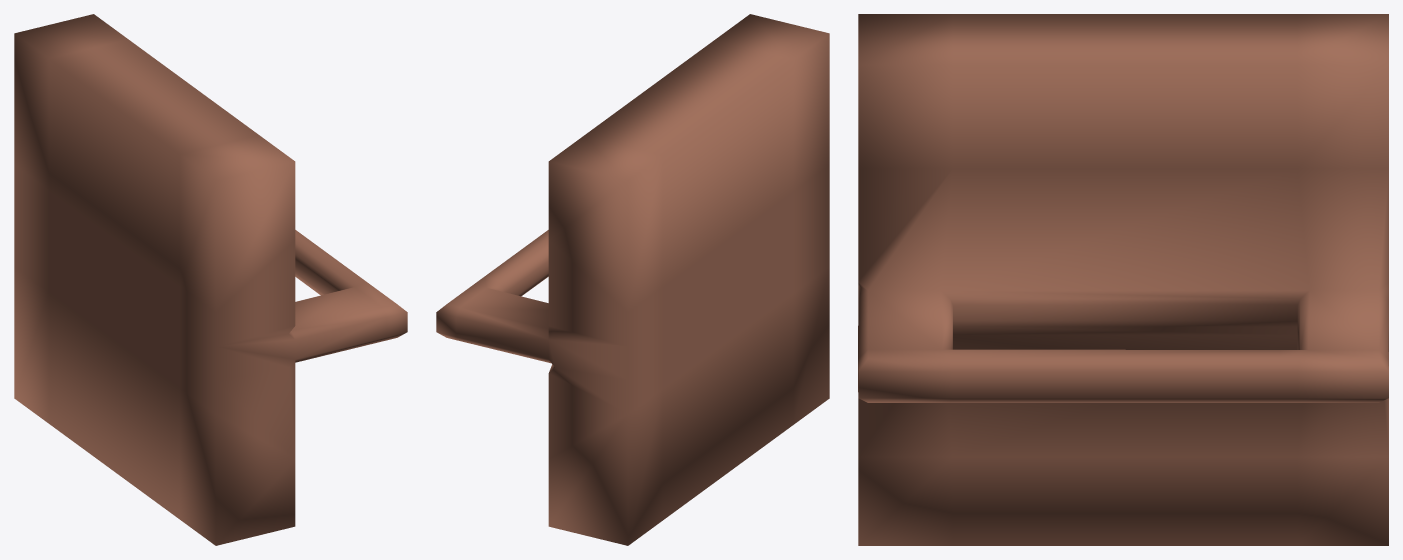
Rendered from Toilet_roll_holder.fbx.
The picture shows the model from 3 angles, left to right: view 1: azimuth 30°, elevation 25°; view 2: azimuth 150°, elevation 25°; view 3: azimuth 270°, elevation 25°; orthographic projection. The views are drawn at different scales.
Parts seen in each view (by area): view 1: Toilet_roll; view 2: Toilet_roll; view 3: Toilet_roll.
Part boxes in pixels (left/top/right/bottom): Toilet_roll: left=14, top=14, right=407, bottom=545; Toilet_roll: left=436, top=14, right=829, bottom=545; Toilet_roll: left=858, top=14, right=1388, bottom=545.
Size of the model in its own units: 23.52 by 42.82 by 42.82.
